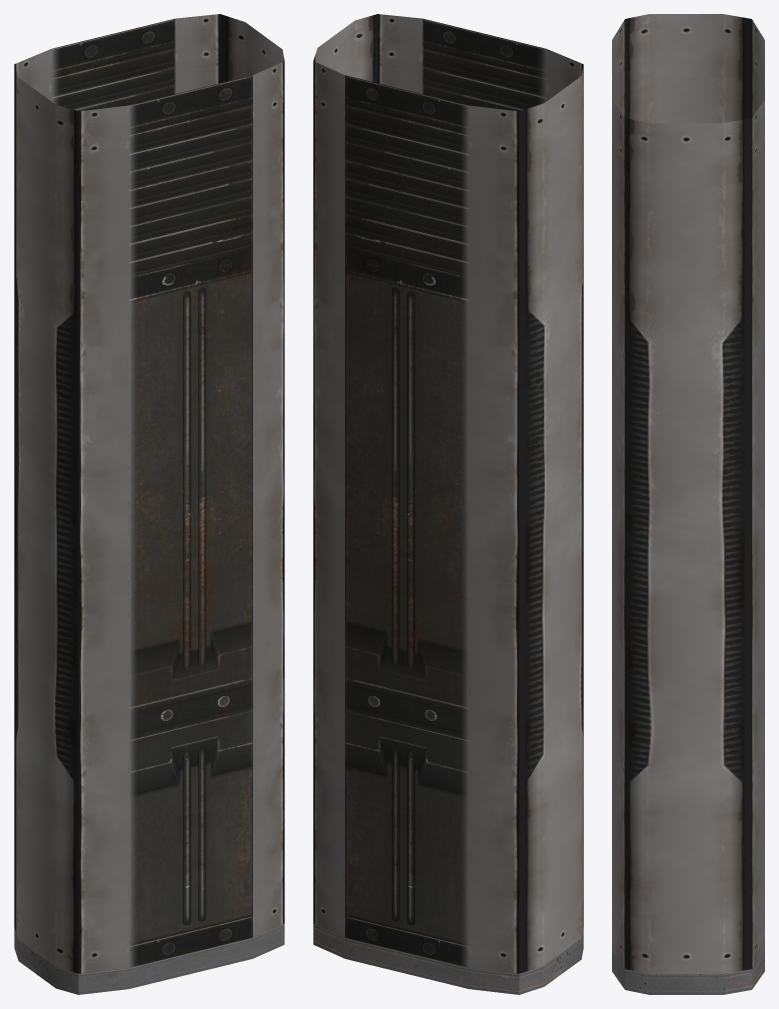
Rendered from Pillar_15.fbx.
3 renders of one model, left to right at view 1: azimuth 30°, elevation 25°; view 2: azimuth 150°, elevation 25°; view 3: azimuth 270°, elevation 25°, orthographic.
Visible parts, largest first — view 1: Pillar_15; view 2: Pillar_15; view 3: Pillar_15.
Boxes of the visible parts, x1=… form: Pillar_15: x1=14, y1=14, x2=284, y2=994; Pillar_15: x1=313, y1=14, x2=583, y2=994; Pillar_15: x1=612, y1=14, x2=764, y2=994.
Size of the model in its own units: 81.45 by 303 by 48.17.
Materials: 1 (1 with a texture image).
